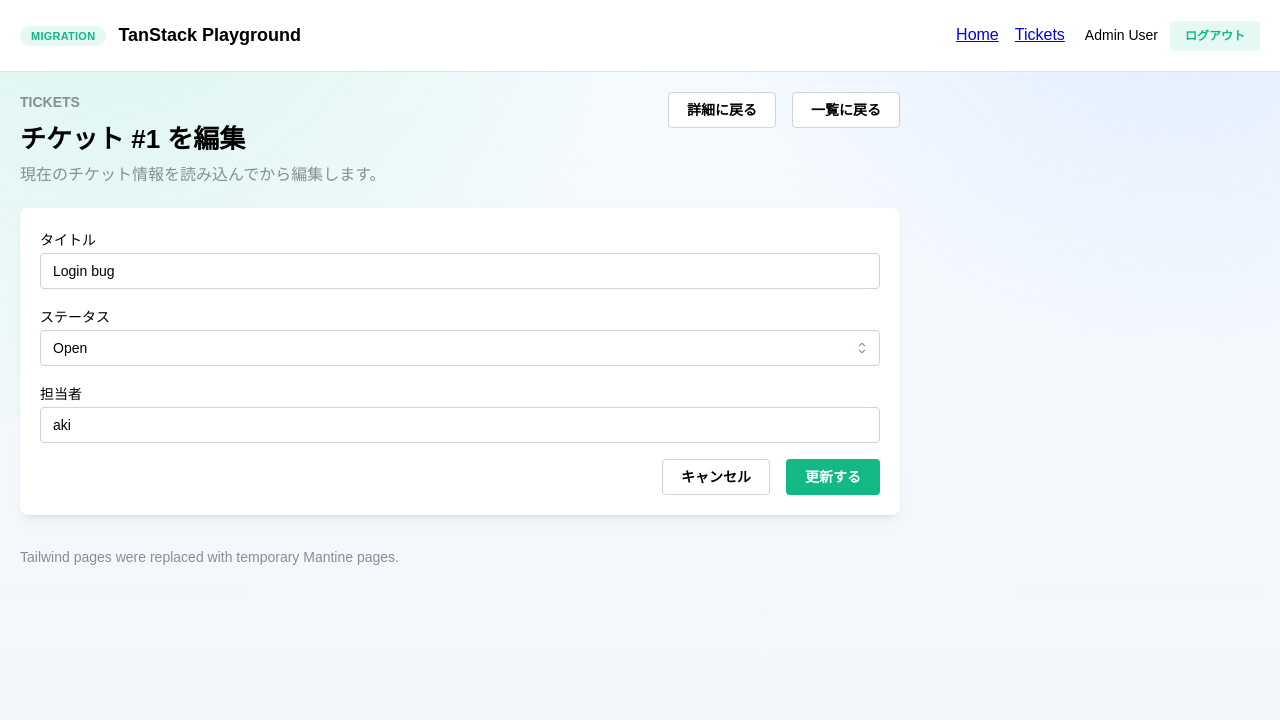
ticket CRUD routes › updates a ticket from the edit page and returns to detail with a toast
Step 1. Replace the text in the field labelled "タイトル" with "Login bug resolved" → (460, 271), box [40,253,880,289]
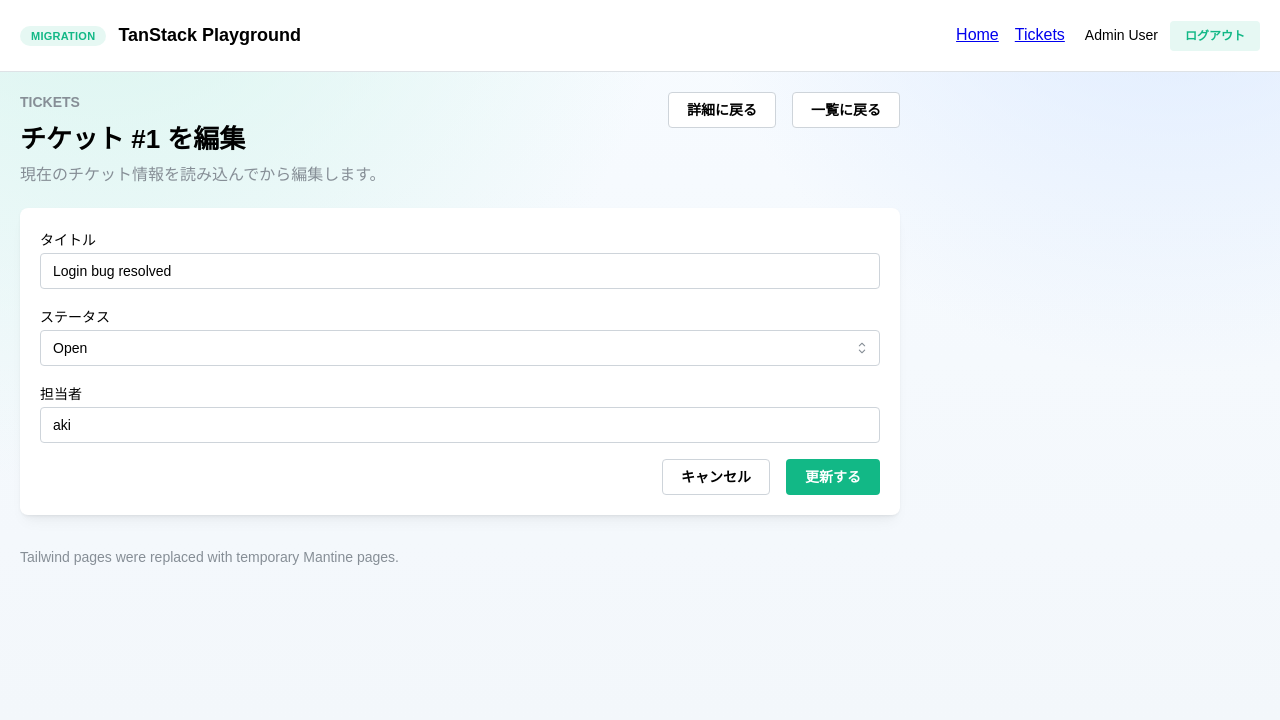
Step 2. Click the button "更新する" → (833, 477), box [786,459,880,495]
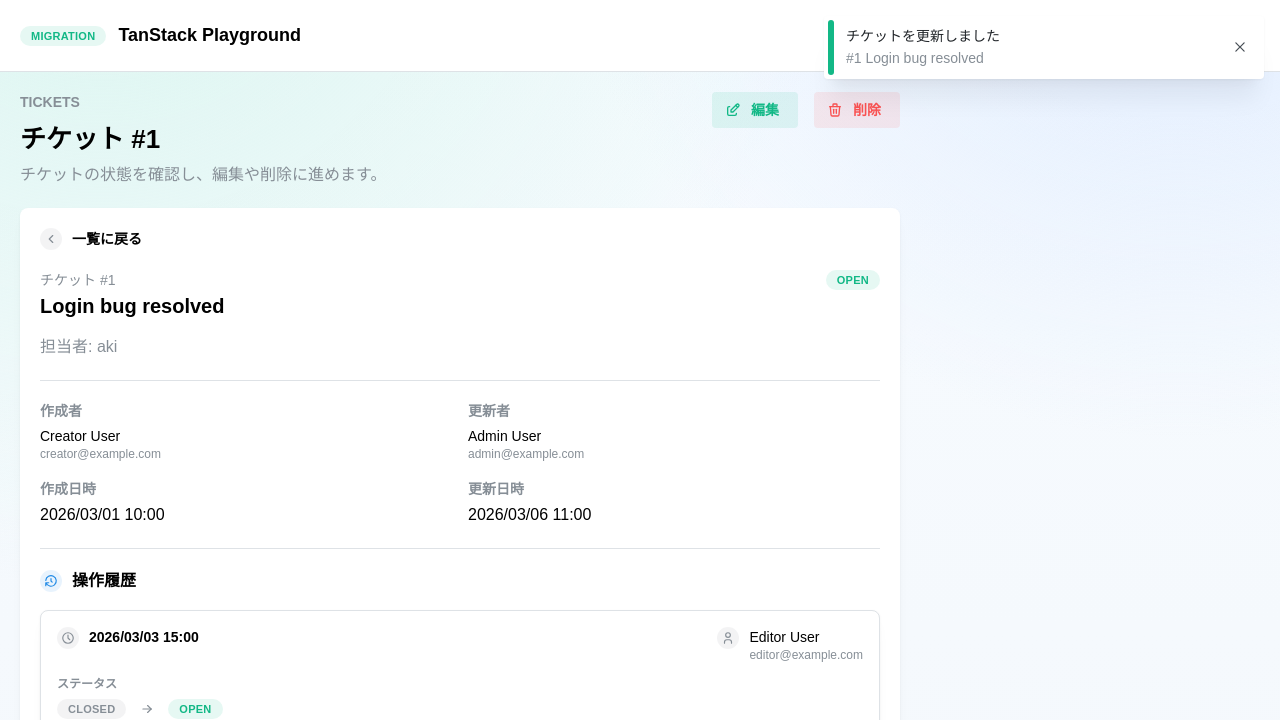
Result: the text "チケットを更新しました" is shown at [846,28,1000,44]
Result: the text "Login bug resolved" is shown at [40,290,224,324]
